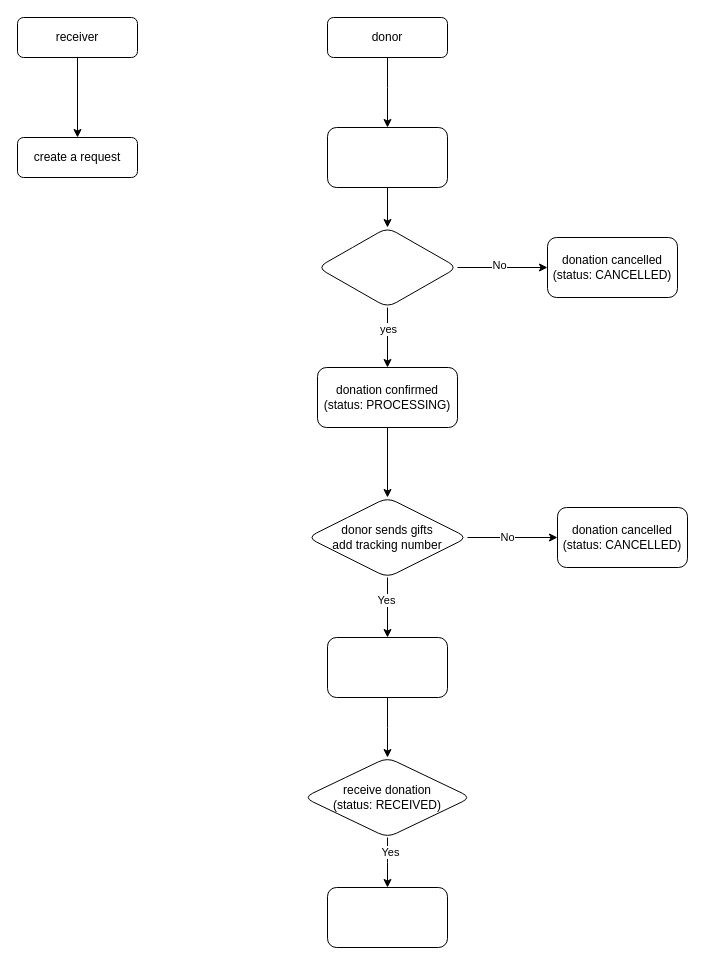
The diagram is 705 pixels wide and 965 high, and some of its shapes have lost their labels. The centre of each missing label's shape, as x and y in pixels:
add reviews: point (387, 917)
create a donation (status: PENDING): point (387, 157)
donation shipping (status: SHIPPING): point (387, 667)
receiver approve: point (387, 267)
